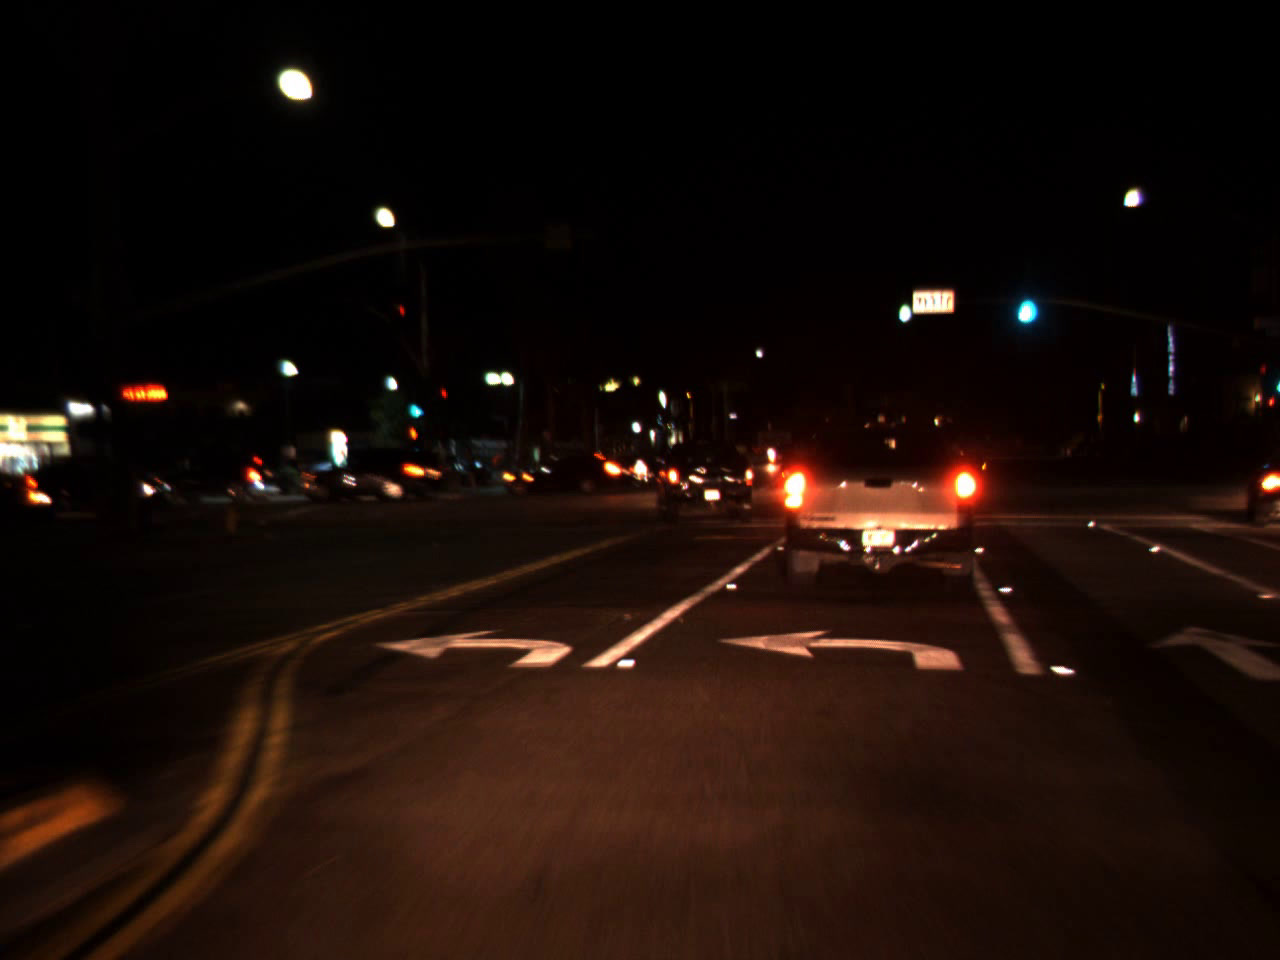go: (1010, 269, 1040, 332), (894, 289, 915, 325), (405, 390, 423, 420)
